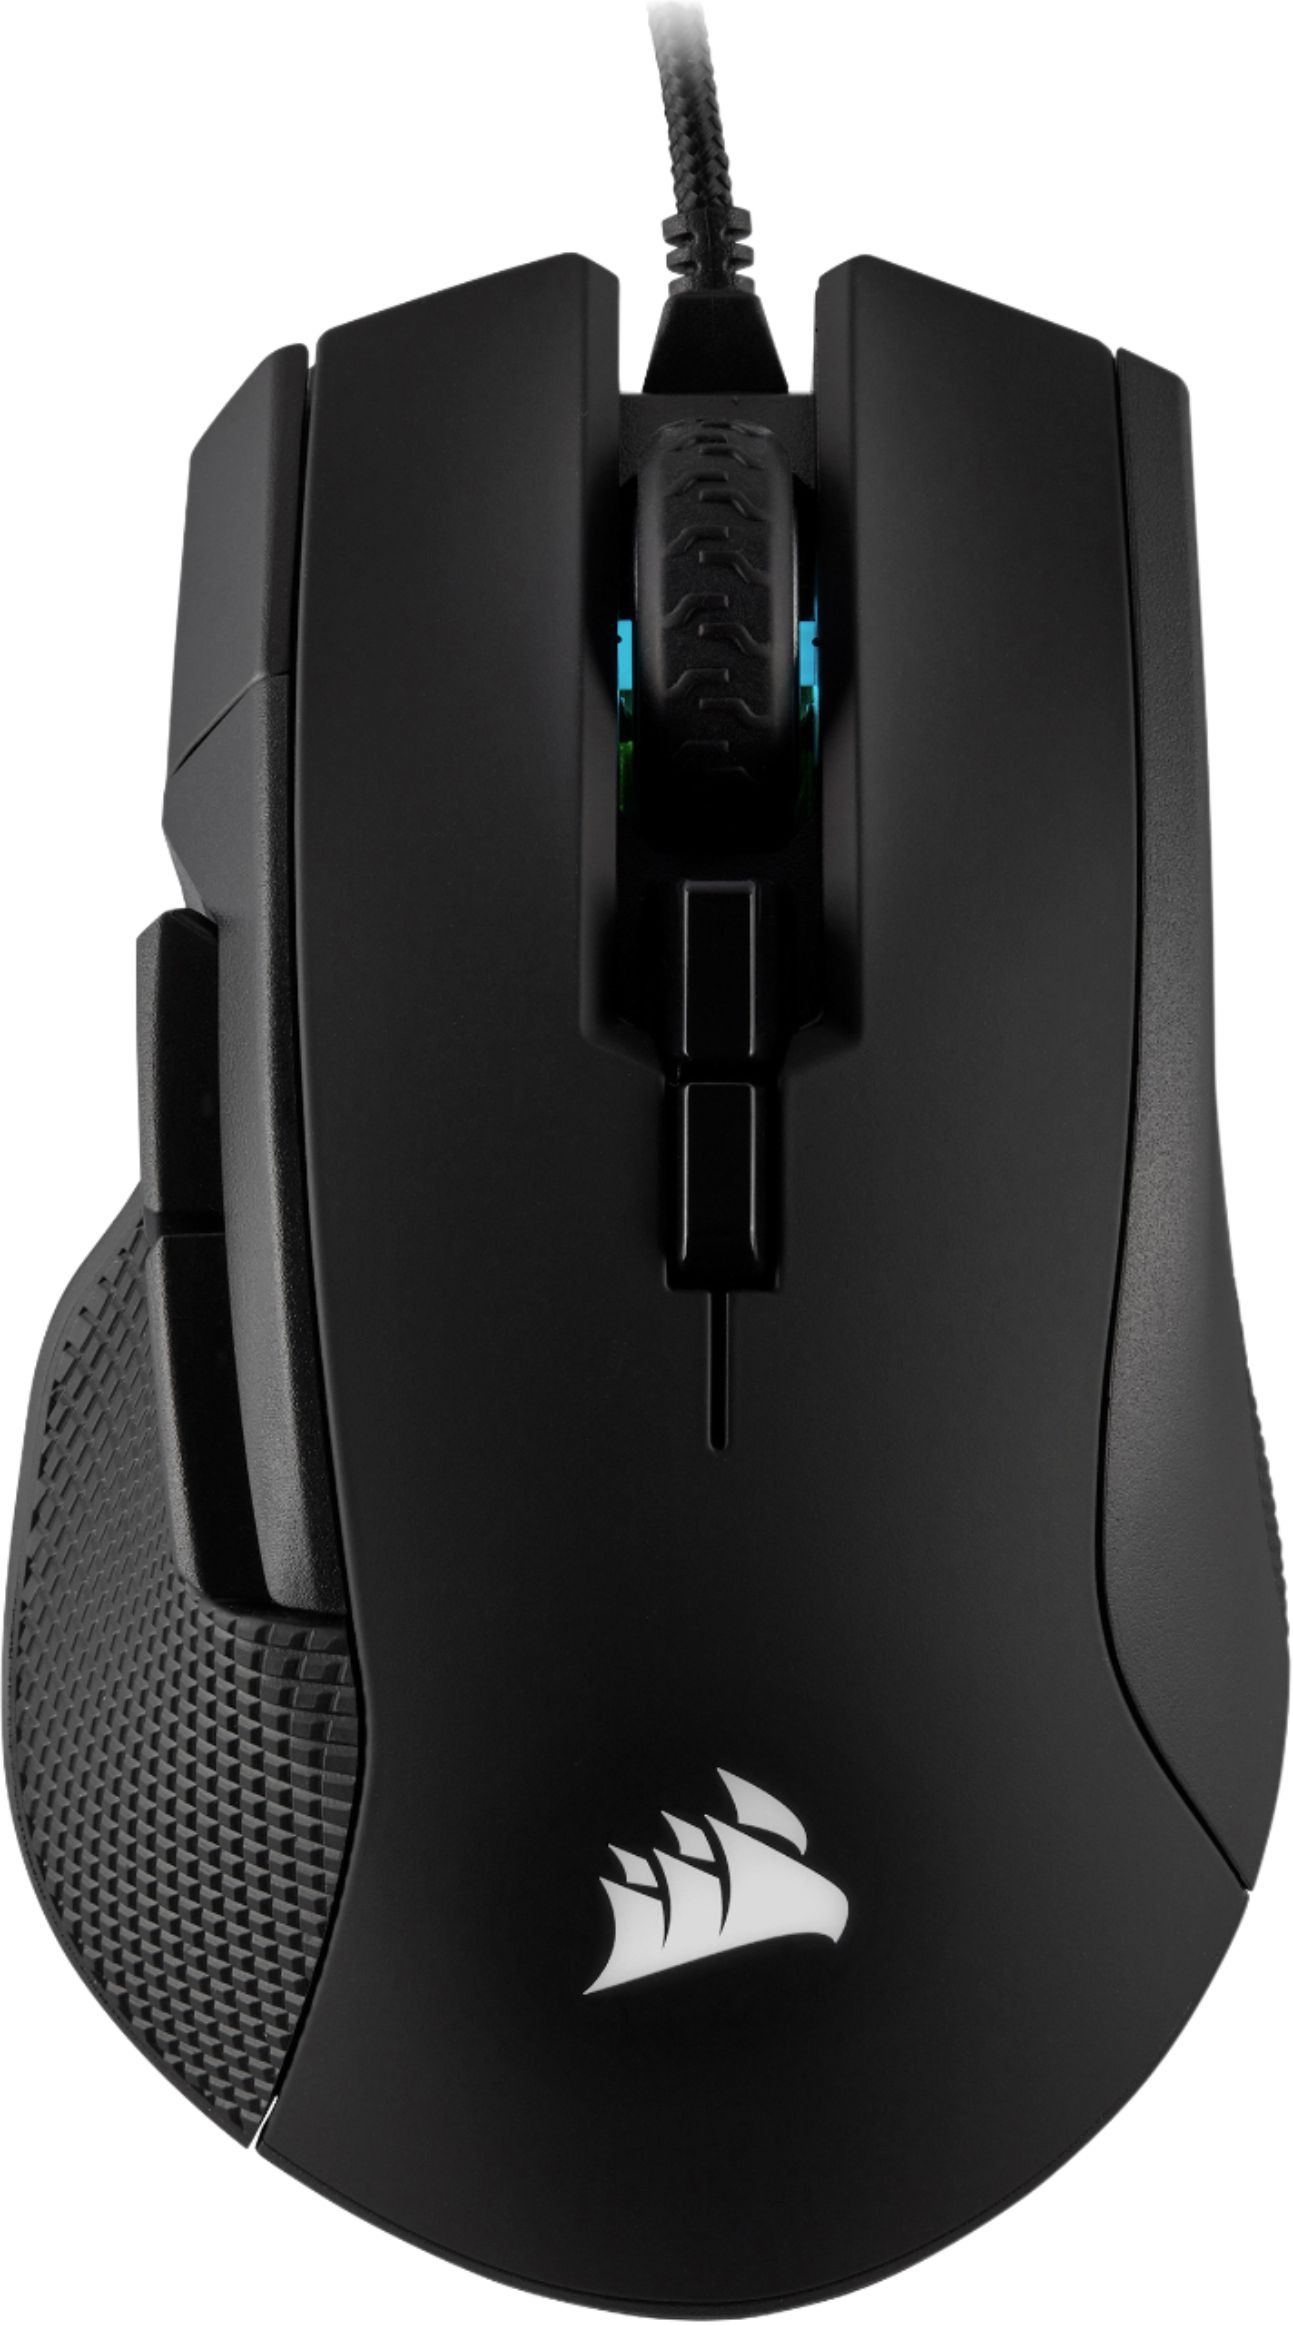mouse: (0, 215, 1280, 2303)
